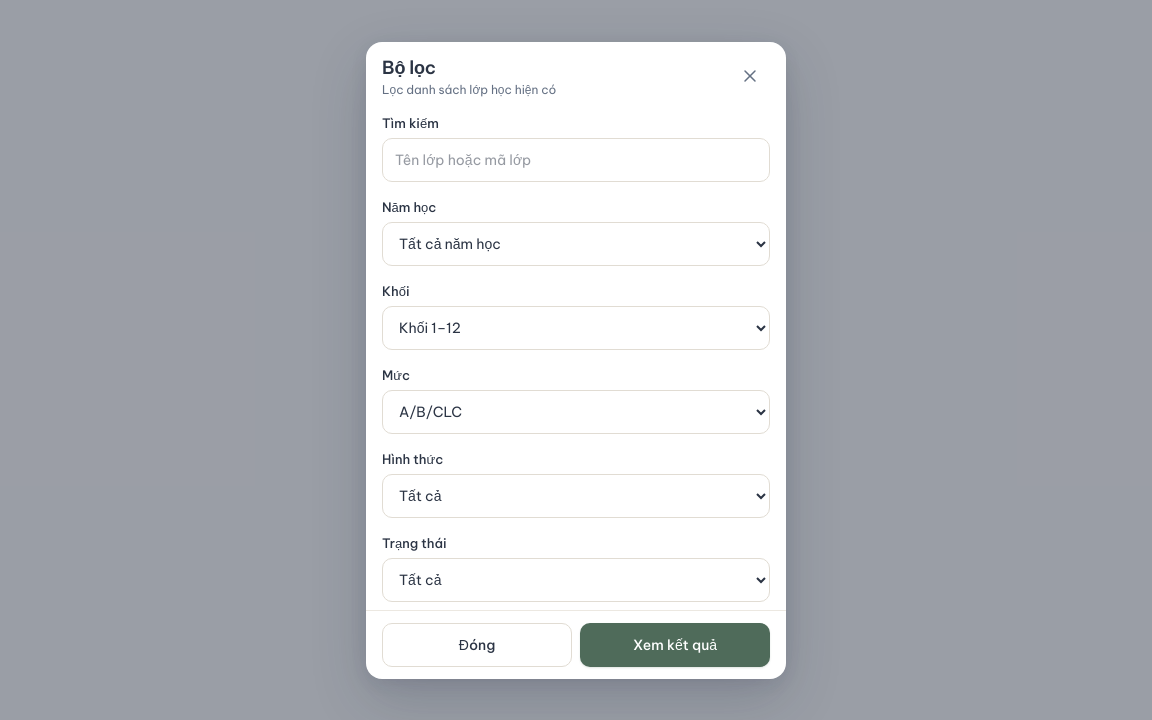
Classes directory presentation › announces active filters in the narrow drawer and clears them on reset
The image size is (1152, 720).
Expected: the text "Lọc danh sách lớp học hiện có" is shown, [382,82,556,98]
Select "Đang hoạt động" in the dropdown with test id "mobile-class-status" at [576, 580], box [382,558,770,602]
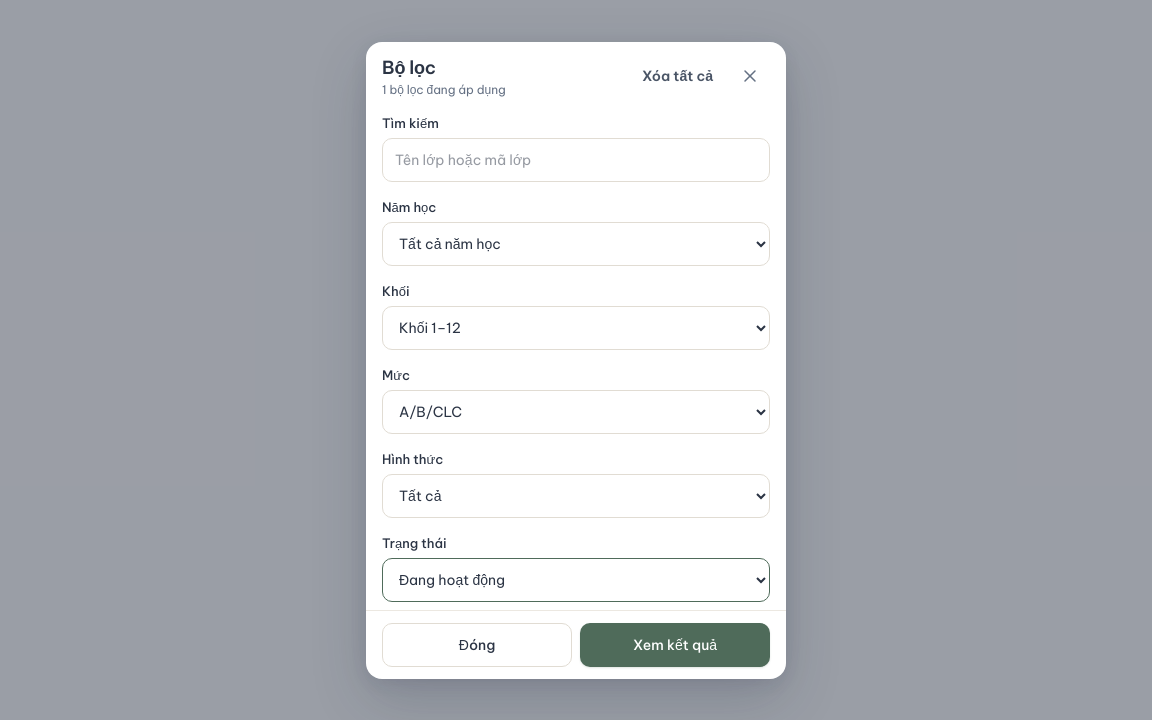
Select "Khối 7" in the dropdown with test id "mobile-class-grade" at [576, 328], box [382,306,770,350]
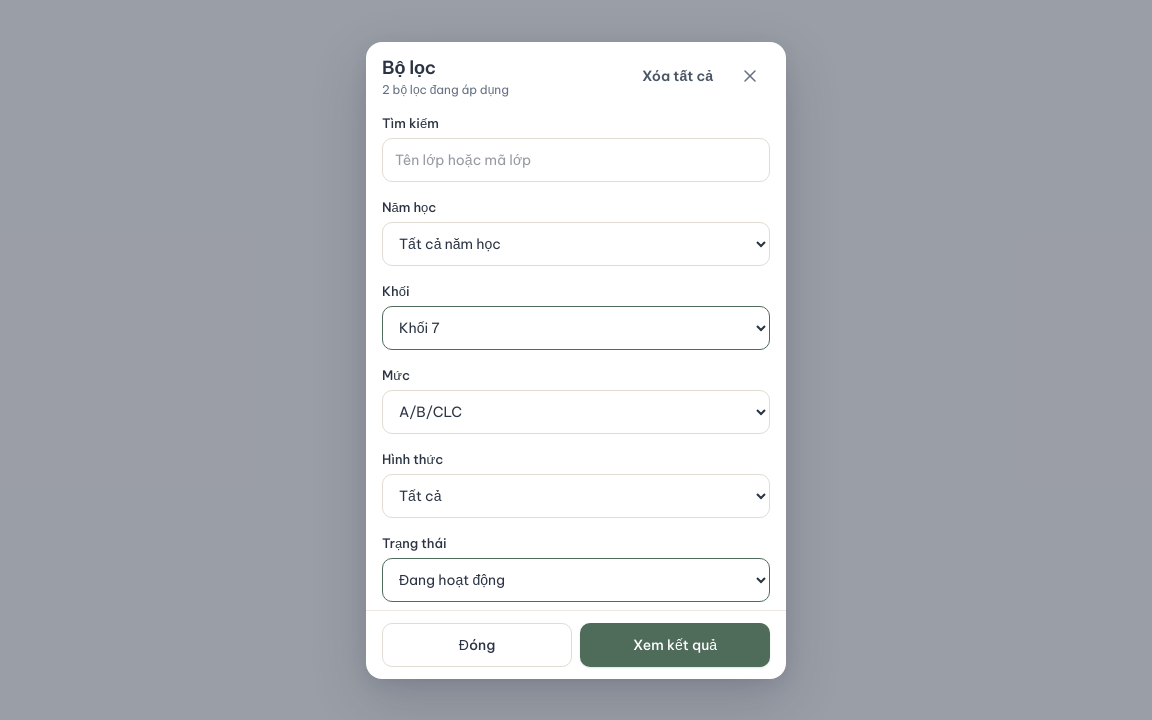
Now the text "2 bộ lọc đang áp dụng" is shown, box [382,82,509,98]
Click the button with test id "mobile-class-reset-filters" at [677, 76], box [629,56,726,96]
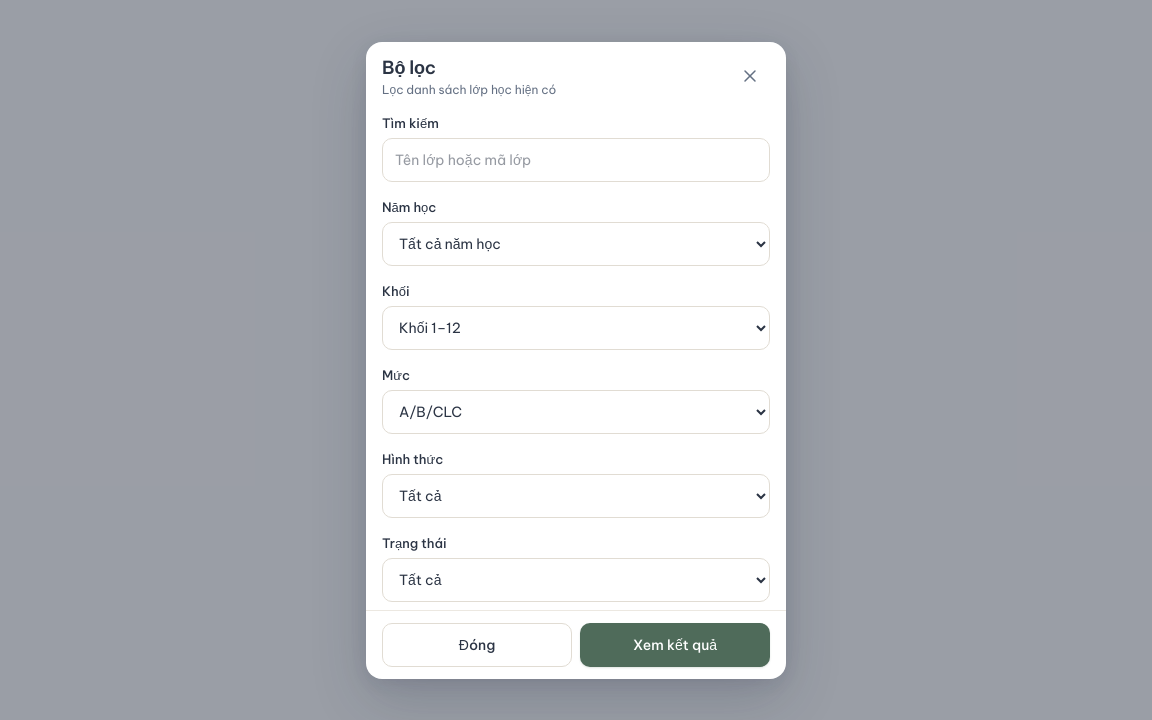
Now the text "Lọc danh sách lớp học hiện có" is shown, box [382,82,556,98]
